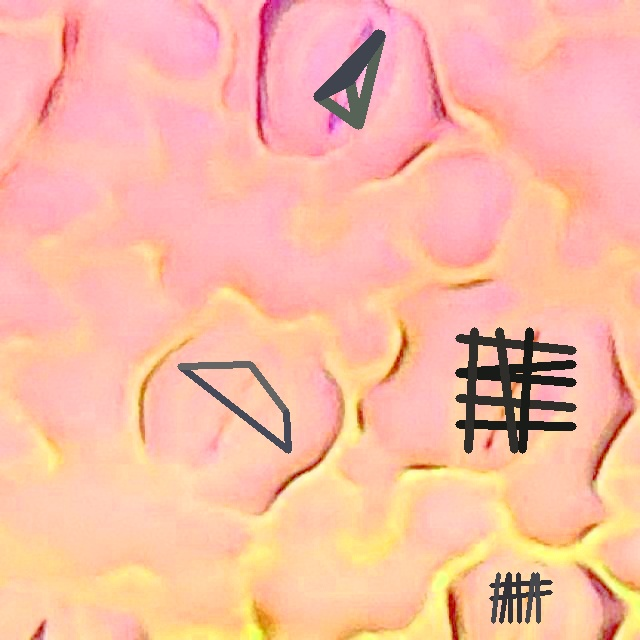close: (455, 327, 576, 453), (177, 362, 288, 453), (489, 572, 552, 623)
open: (314, 30, 384, 129)
